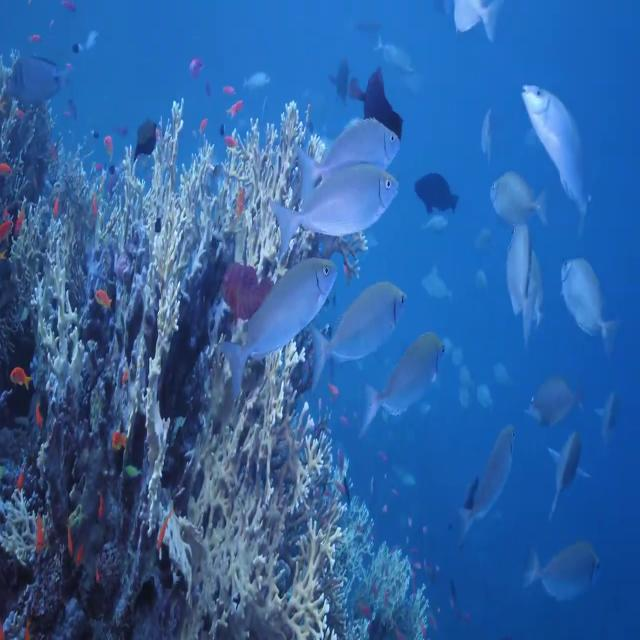fish: (215, 253, 346, 404), (354, 312, 446, 460), (306, 267, 412, 387), (271, 154, 399, 247), (523, 74, 606, 216), (456, 402, 519, 549), (549, 246, 629, 354), (514, 528, 611, 613), (293, 116, 406, 174), (494, 224, 554, 333), (486, 150, 559, 229), (342, 58, 408, 138), (533, 415, 586, 510), (520, 366, 585, 425), (372, 15, 423, 87), (410, 159, 465, 222), (445, 0, 513, 49), (583, 381, 628, 441), (126, 109, 169, 166), (419, 252, 461, 309), (241, 65, 275, 98), (9, 358, 37, 397), (92, 277, 118, 318)
